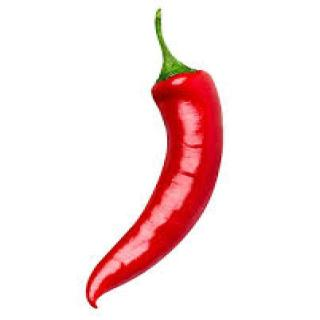Cabai Merah: (80, 11, 224, 309)
